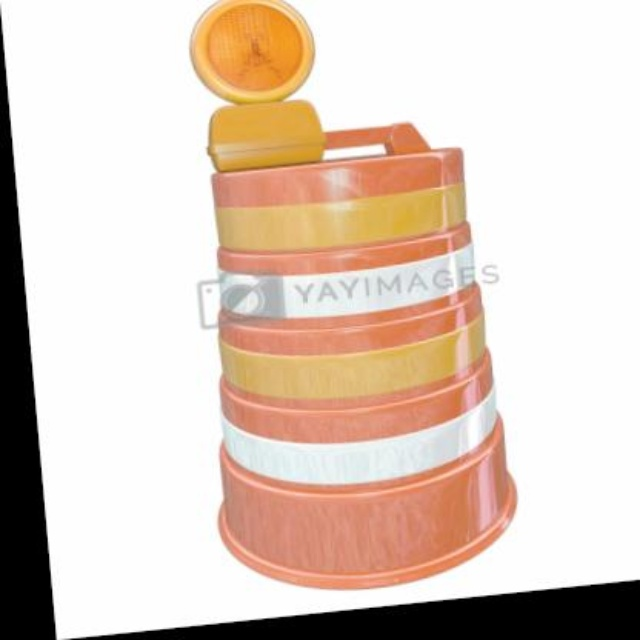obstacle: (179, 128, 528, 607)
